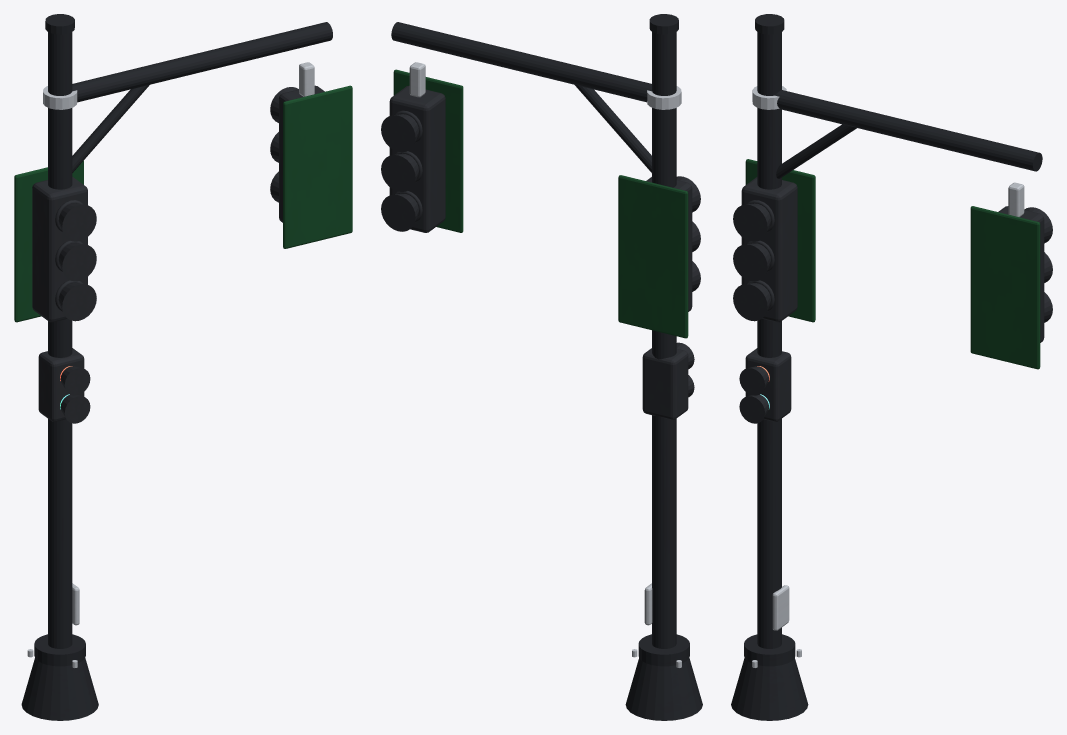
The model's file is prop_trafficlight.glb.
The picture shows the model from 3 angles, left to right: view 1: azimuth 30°, elevation 25°; view 2: azimuth 150°, elevation 25°; view 3: azimuth 330°, elevation 25°; orthographic projection.
Visible parts, largest first — view 1: prop_trafficlight_backboard_far, prop_trafficlight_pole, prop_trafficlight_mast_arm, prop_trafficlight_case_near, prop_trafficlight_plinth, prop_trafficlight_backboard_near, prop_trafficlight_ped_case, prop_trafficlight_knee_brace, prop_trafficlight_visor_near_amber, prop_trafficlight_visor_near_red, prop_trafficlight_visor_near_green, prop_trafficlight_base_collar (+5 smaller); view 2: prop_trafficlight_backboard_near, prop_trafficlight_pole, prop_trafficlight_mast_arm, prop_trafficlight_case_far, prop_trafficlight_plinth, prop_trafficlight_backboard_far, prop_trafficlight_ped_case, prop_trafficlight_knee_brace, prop_trafficlight_visor_far_red, prop_trafficlight_visor_far_amber, prop_trafficlight_visor_far_green, prop_trafficlight_base_collar (+4 smaller); view 3: prop_trafficlight_backboard_far, prop_trafficlight_pole, prop_trafficlight_mast_arm, prop_trafficlight_case_near, prop_trafficlight_plinth, prop_trafficlight_backboard_near, prop_trafficlight_ped_case, prop_trafficlight_visor_near_red, prop_trafficlight_visor_near_green, prop_trafficlight_visor_near_amber, prop_trafficlight_base_collar, prop_trafficlight_knee_brace (+6 smaller).
Part boxes in pixels (left/top/right/bottom): prop_trafficlight_backboard_far: left=283, top=85, right=352, bottom=248; prop_trafficlight_pole: left=48, top=32, right=72, bottom=648; prop_trafficlight_mast_arm: left=72, top=22, right=332, bottom=102; prop_trafficlight_case_near: left=32, top=177, right=87, bottom=322; prop_trafficlight_plinth: left=21, top=658, right=98, bottom=720; prop_trafficlight_backboard_near: left=14, top=160, right=83, bottom=322; prop_trafficlight_ped_case: left=38, top=348, right=84, bottom=421; prop_trafficlight_knee_brace: left=72, top=85, right=149, bottom=172; prop_trafficlight_visor_near_amber: left=58, top=243, right=96, bottom=281; prop_trafficlight_visor_near_red: left=58, top=203, right=96, bottom=241; prop_trafficlight_visor_near_green: left=58, top=283, right=96, bottom=321; prop_trafficlight_base_collar: left=34, top=634, right=85, bottom=666; prop_trafficlight_backboard_near: left=618, top=175, right=688, bottom=338; prop_trafficlight_pole: left=652, top=32, right=676, bottom=648; prop_trafficlight_mast_arm: left=391, top=22, right=651, bottom=102; prop_trafficlight_case_far: left=389, top=85, right=445, bottom=232; prop_trafficlight_plinth: left=625, top=658, right=702, bottom=720; prop_trafficlight_backboard_far: left=393, top=69, right=463, bottom=232; prop_trafficlight_ped_case: left=642, top=348, right=688, bottom=419; prop_trafficlight_knee_brace: left=574, top=84, right=651, bottom=172; prop_trafficlight_visor_far_red: left=381, top=114, right=418, bottom=152; prop_trafficlight_visor_far_amber: left=381, top=153, right=418, bottom=191; prop_trafficlight_visor_far_green: left=381, top=193, right=418, bottom=231; prop_trafficlight_base_collar: left=638, top=634, right=689, bottom=666; prop_trafficlight_backboard_far: left=970, top=206, right=1040, bottom=369; prop_trafficlight_pole: left=757, top=32, right=781, bottom=648; prop_trafficlight_mast_arm: left=775, top=90, right=1042, bottom=171; prop_trafficlight_case_near: left=741, top=177, right=797, bottom=322; prop_trafficlight_plinth: left=731, top=658, right=808, bottom=720; prop_trafficlight_backboard_near: left=745, top=159, right=815, bottom=322; prop_trafficlight_ped_case: left=745, top=348, right=791, bottom=421; prop_trafficlight_visor_near_red: left=733, top=203, right=771, bottom=241; prop_trafficlight_visor_near_green: left=733, top=283, right=770, bottom=321; prop_trafficlight_visor_near_amber: left=733, top=243, right=770, bottom=281; prop_trafficlight_base_collar: left=744, top=634, right=795, bottom=666; prop_trafficlight_knee_brace: left=776, top=124, right=856, bottom=178.
Bounding box in the file's own units: 2.83 × 5.86 × 0.6.
7 materials, 4 textured.
